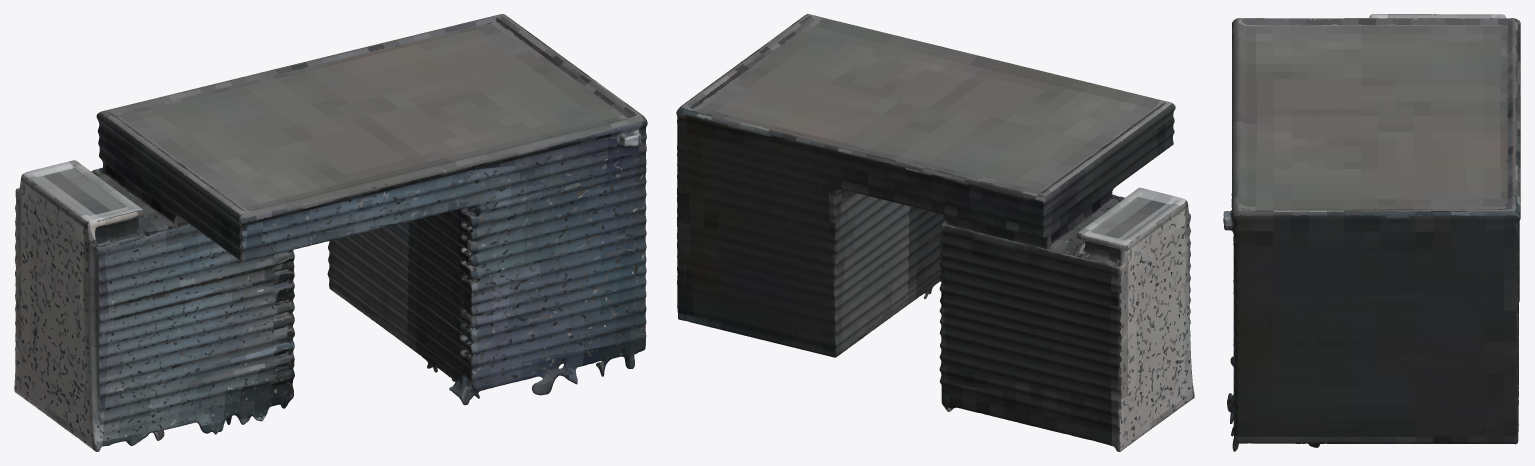
3 views of the same model, side by side, from view 1: azimuth 30°, elevation 25°; view 2: azimuth 150°, elevation 25°; view 3: azimuth 270°, elevation 25° (orthographic). The views are drawn at different scales.
Visible parts, largest first — view 1: input; view 2: input; view 3: input.
Part boxes in pixels (x1,y1,x2,y2): input: (14, 14, 647, 451); input: (676, 14, 1194, 451); input: (1223, 14, 1520, 451).
Size of the model in its own units: 0.9999 by 0.5261 by 0.5289.
1 material, 1 textured.
